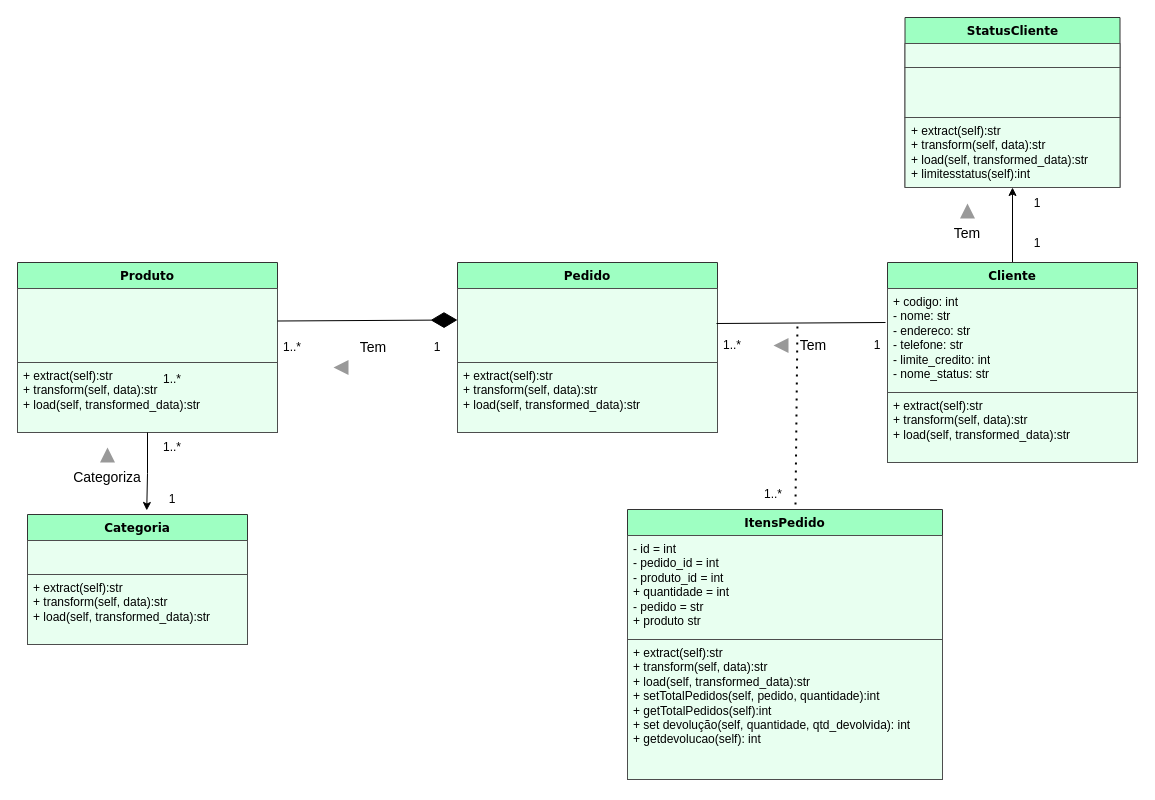
Image size: 1155x800. Some labels were removed from this diagram. Here are the shapes that lost their labels. From the top down, the centre of each, then its label:
At (1012,55): "+ nome: str".
At (1012,92): "+ getstatus(self): str + setstatus(self, nome):str".
At (147,325): "- codigo: int + nome: str - preco : float + nome_categoria: str".
At (587,325): "- numero: int - codigo_cliente: int + data: str - total: int".
At (137,557): "+ nome_categoria: str".
